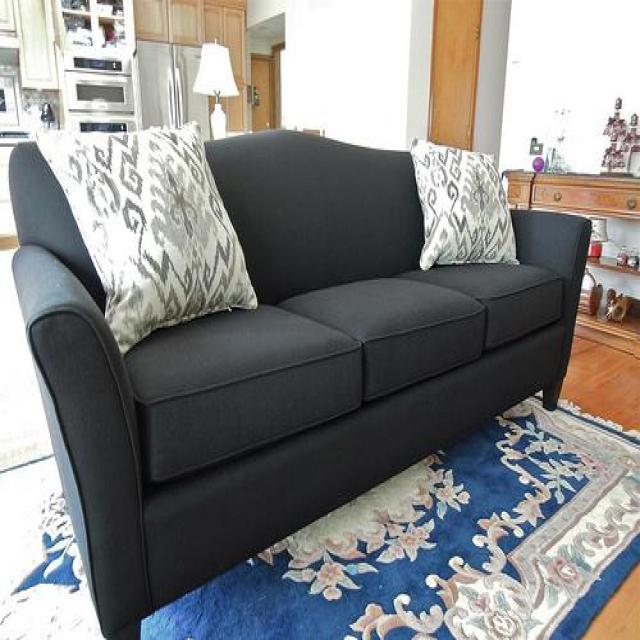sofa: (8, 128, 591, 640)
